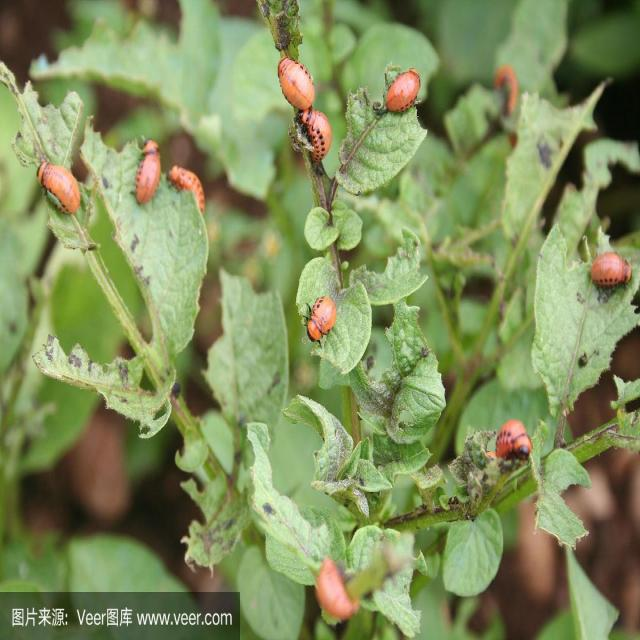ShuCaiHuaBanChong-Larva-: (33, 153, 96, 227), (294, 100, 348, 170), (272, 51, 328, 118), (477, 407, 534, 468), (306, 280, 354, 346), (166, 158, 210, 218), (578, 246, 636, 291), (371, 64, 419, 112), (138, 130, 159, 208)
